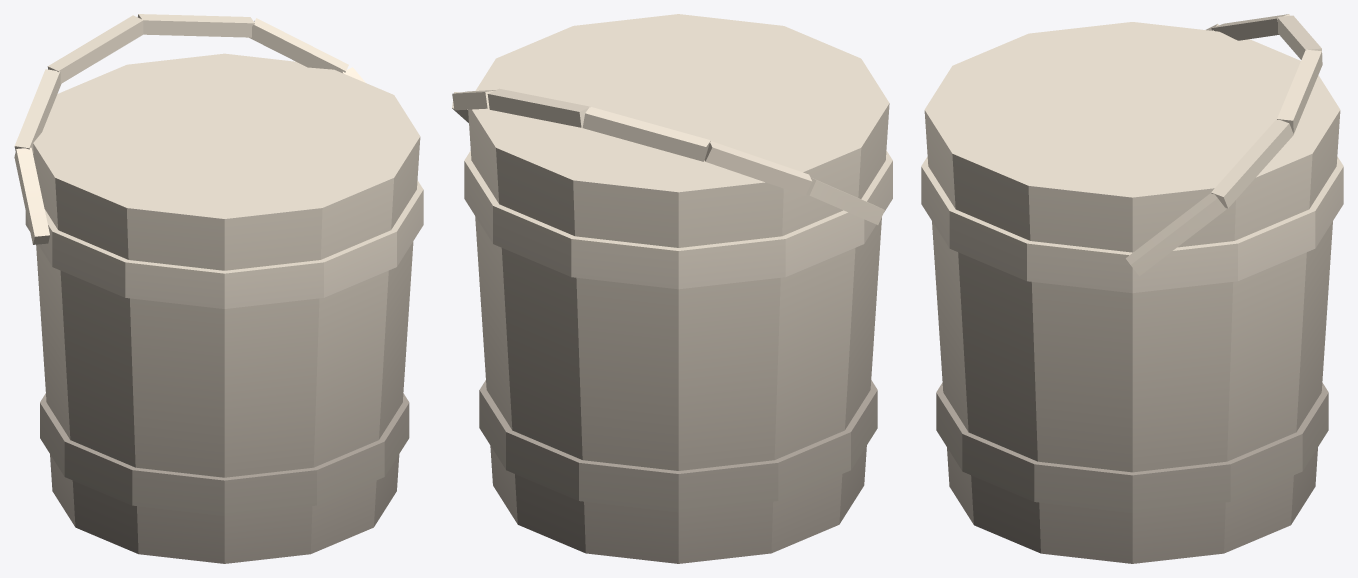
Rendered from SM_VKI_Prop_Bucket.fbx.
3 renders of one model, left to right at view 1: azimuth 30°, elevation 25°; view 2: azimuth 150°, elevation 25°; view 3: azimuth 270°, elevation 25°, orthographic. The views are drawn at different scales.
Visible parts, largest first — view 1: SM_VKI_Prop_Bucket.001; view 2: SM_VKI_Prop_Bucket.001; view 3: SM_VKI_Prop_Bucket.001.
Boxes of the visible parts, box(x1,y1,x2,y2) form: SM_VKI_Prop_Bucket.001: box(14, 14, 423, 563); SM_VKI_Prop_Bucket.001: box(452, 14, 892, 563); SM_VKI_Prop_Bucket.001: box(921, 14, 1343, 563).
Bounding box in the file's own units: 0.3375 × 0.3477 × 0.3048.
